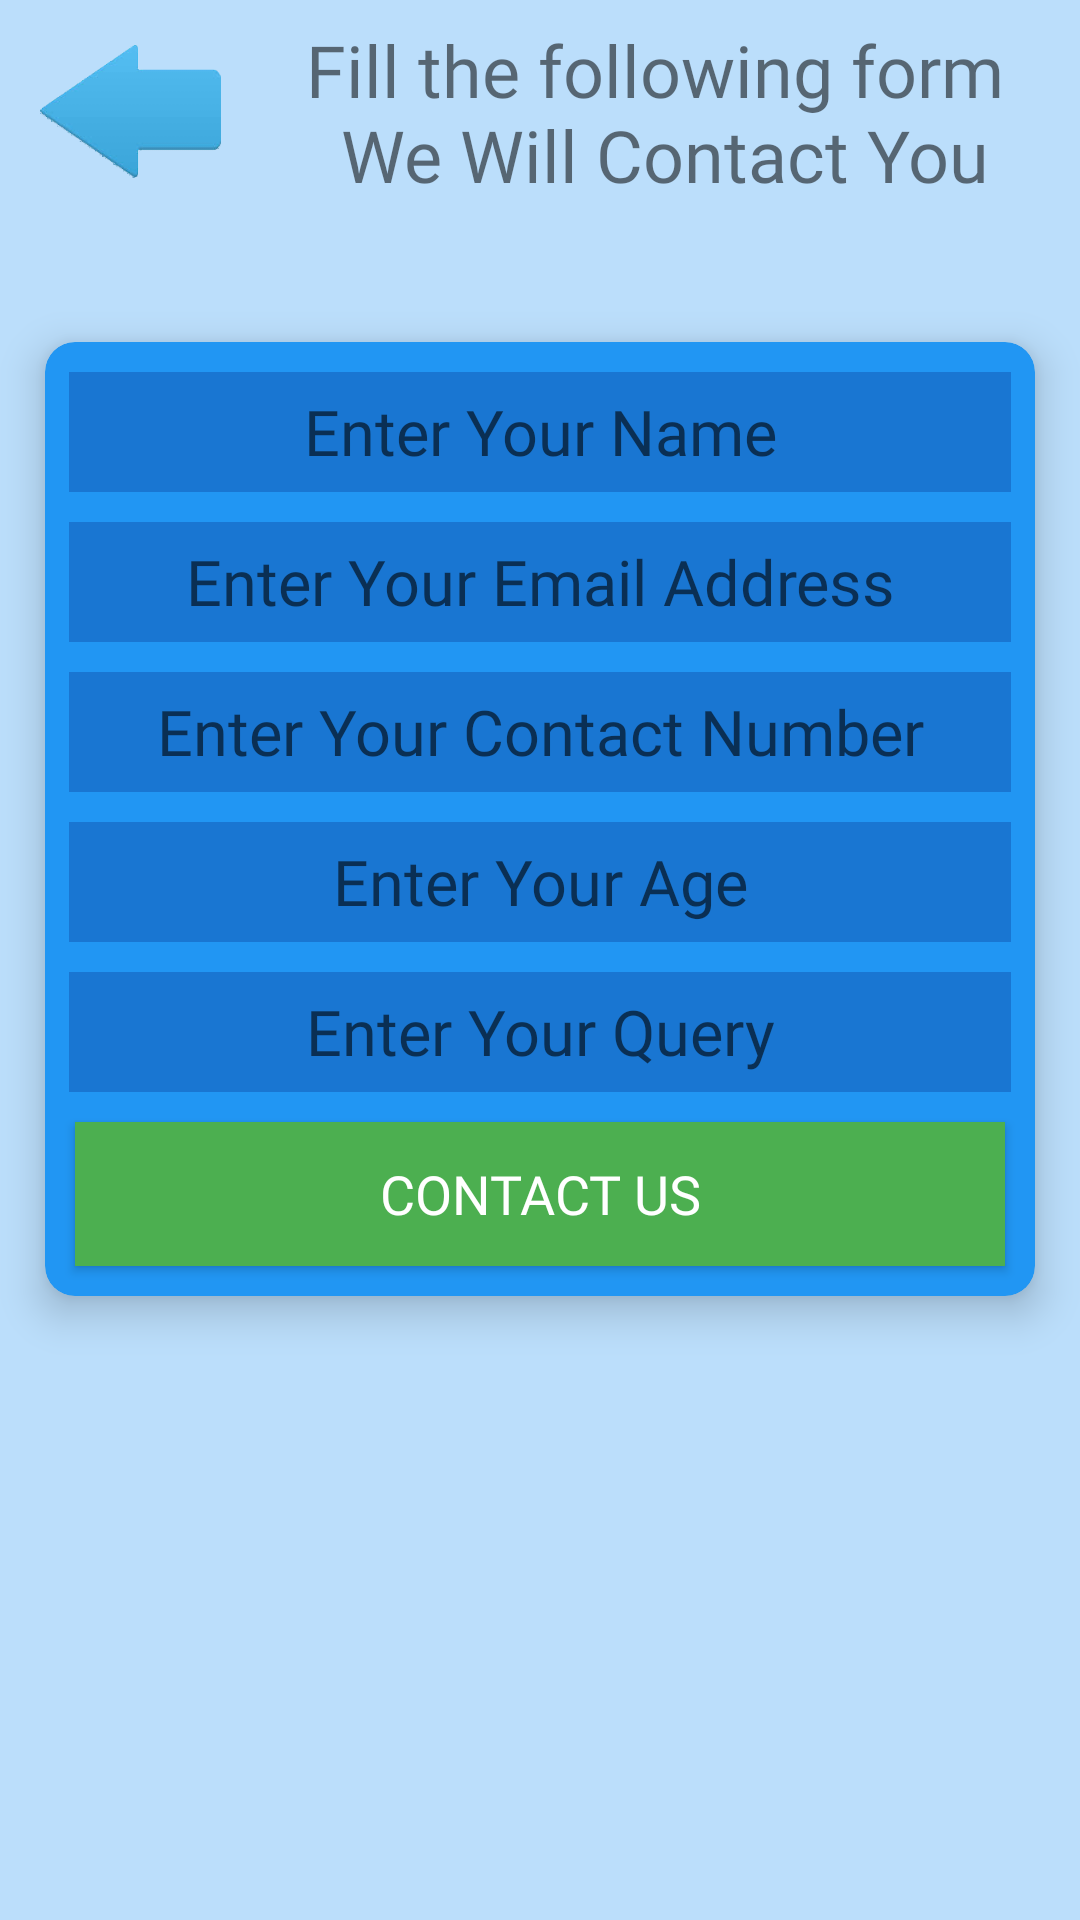

Screen size 1080×1920. Icon name, then its box in pixels as [x1=x1, y1=y1, x2=x2, y2=y2]:
back: [x1=40, y1=45, x2=221, y2=178]
